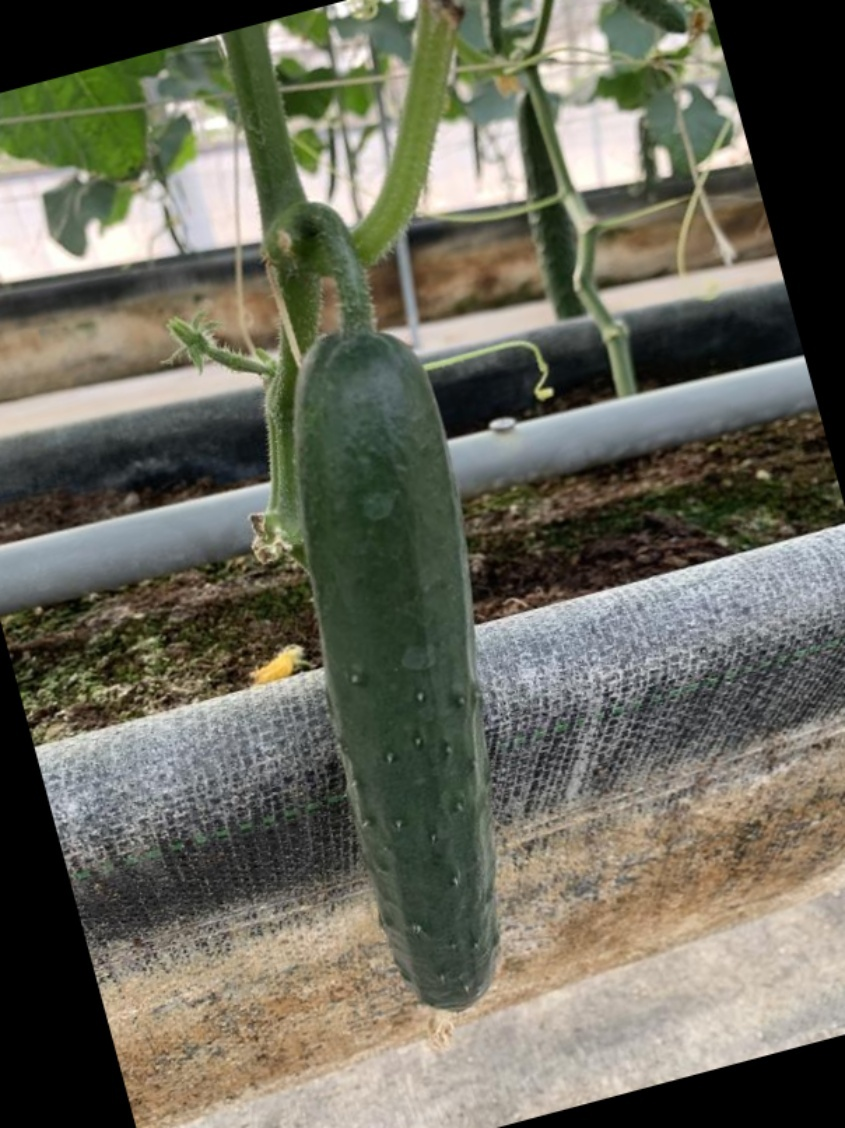mature: (284, 349, 512, 1037)
